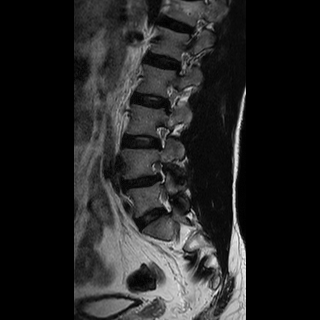LFS0: (168, 46, 194, 79), (157, 82, 181, 117), (149, 120, 173, 154)
